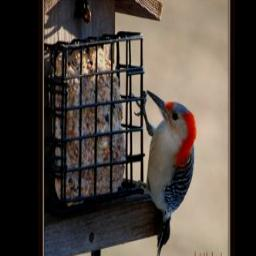Woodpecker: (132, 90, 196, 256)
